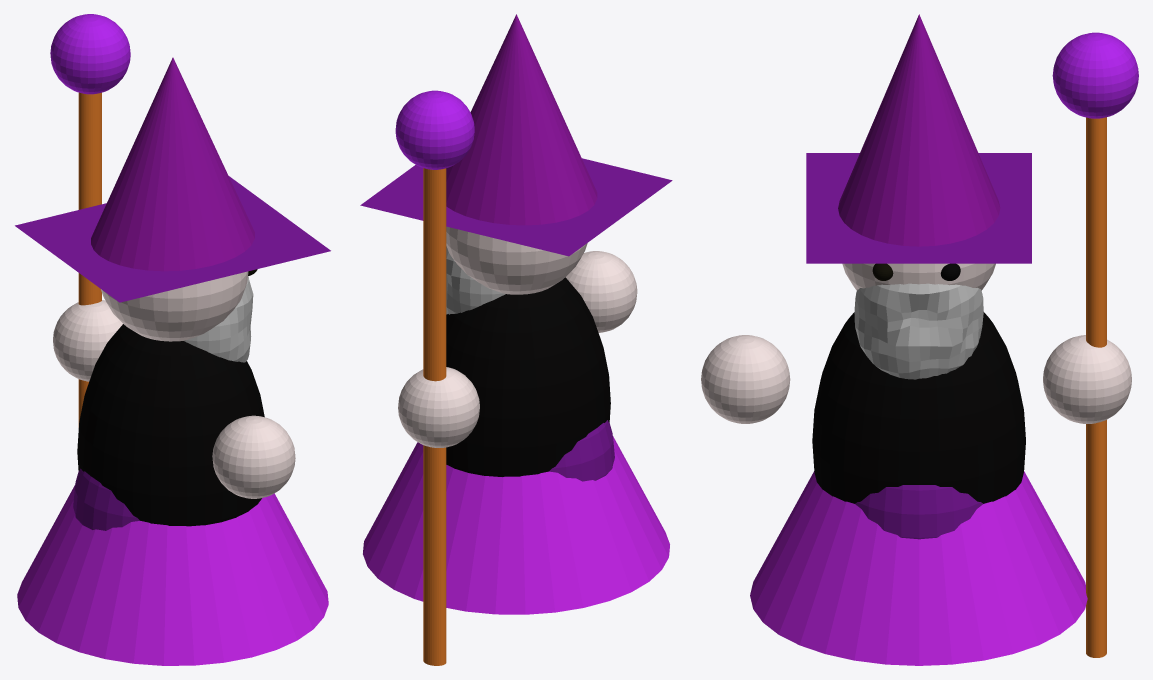
3 renders of one model, left to right at view 1: azimuth 30°, elevation 25°; view 2: azimuth 150°, elevation 25°; view 3: azimuth 270°, elevation 25°, orthographic. The views are drawn at different scales.
Visible parts, largest first — view 1: Sphere.006; view 2: Sphere.006; view 3: Sphere.006.
Boxes of the visible parts, box(x1,y1,x2,y2) form: Sphere.006: box(15, 14, 330, 665); Sphere.006: box(360, 14, 672, 665); Sphere.006: box(701, 14, 1138, 665).
Size of the model in its own units: 1.91 by 4.05 by 2.52.
